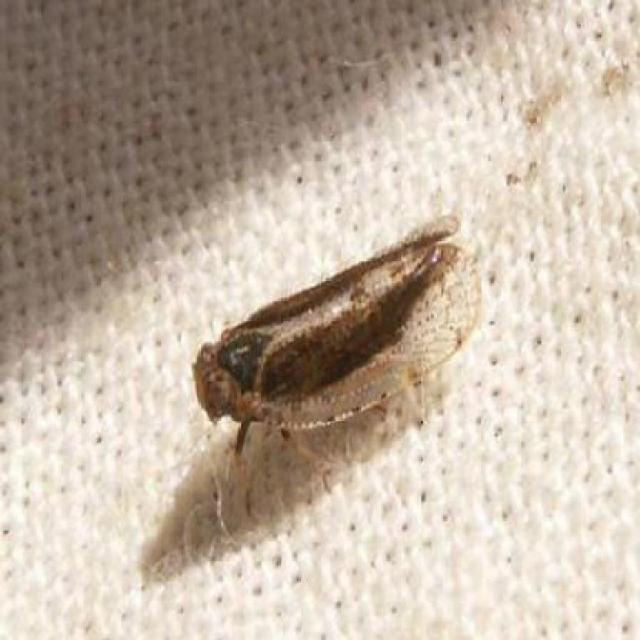brown-planthopper: (191, 204, 480, 453)
